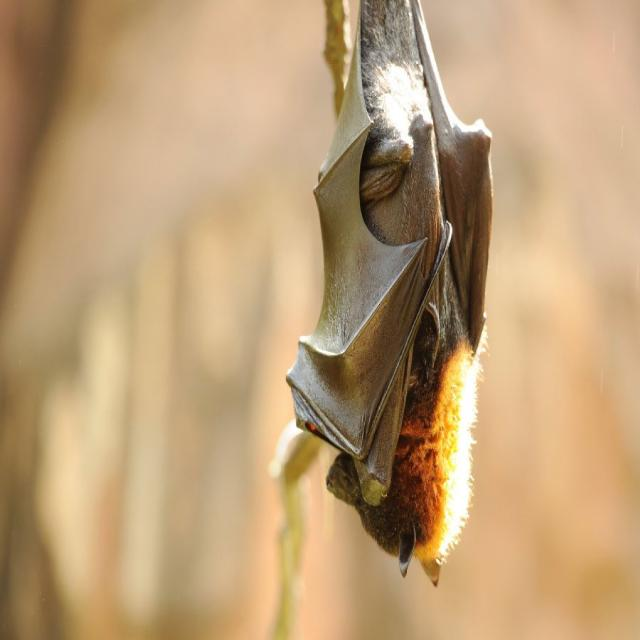Bat: (284, 0, 496, 584)
